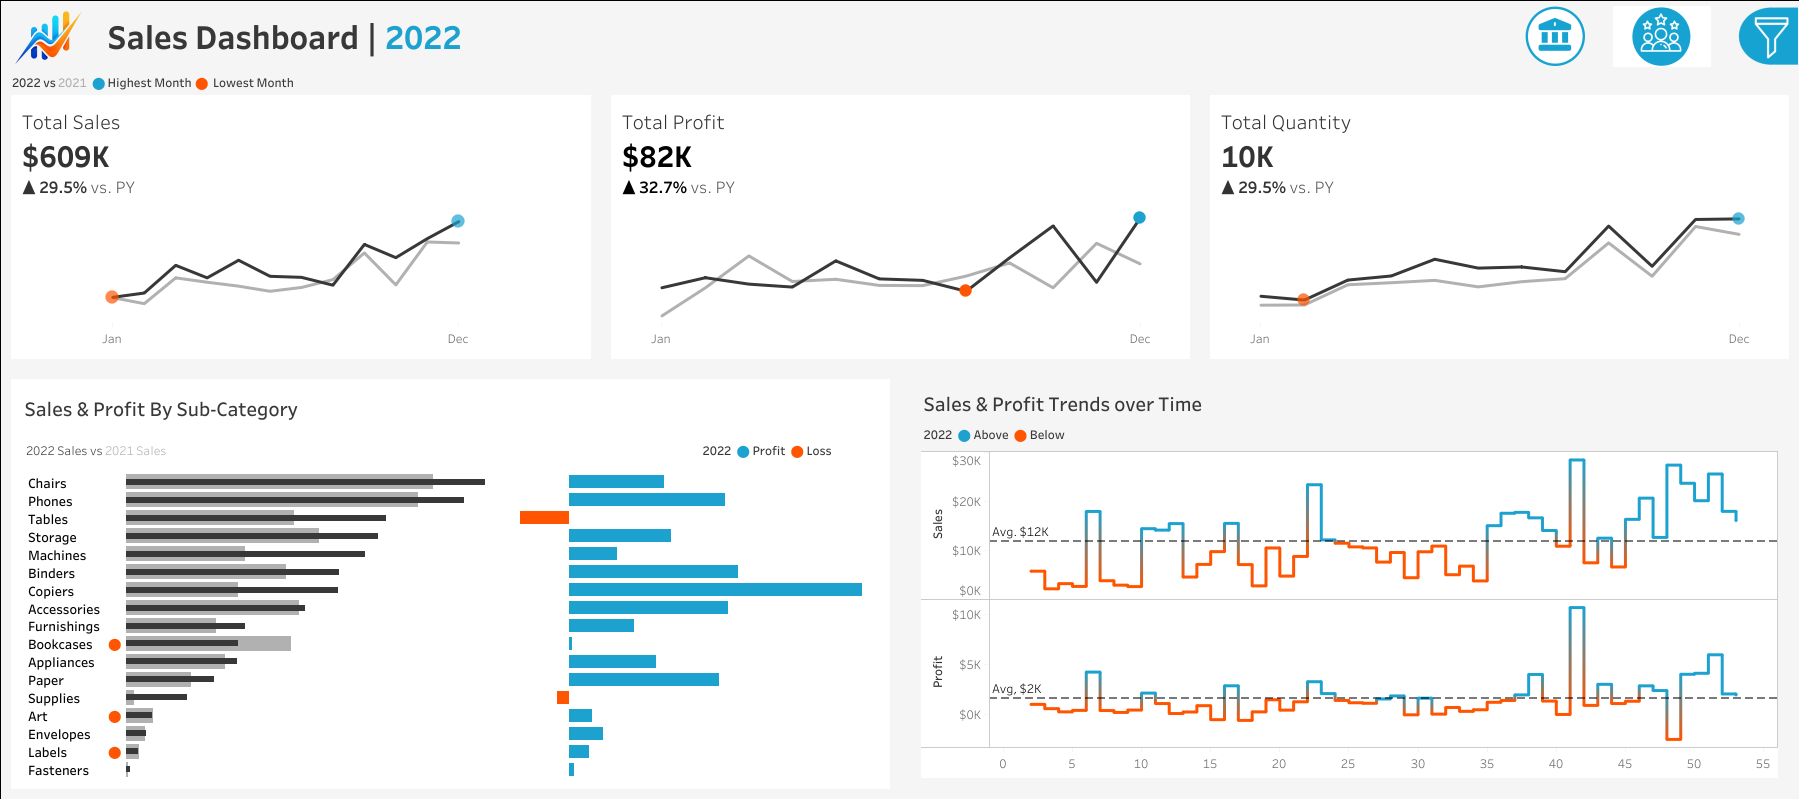

Layout of this report page (visuals, bound fields, positions):
{"tool":"tableau","page":{"name":"Sales Dashboard1","canvas":[1800,800],"ordinal":1},"visuals":[{"type":"image","param":"C:/Users/DELL G15/Desktop/Tableau/Project 1 - Sales/Icons/Logo_2.png","box":[1,1,100,69]},{"type":"text","box":[101,1,1363,69]},{"type":"dashboard-object","box":[1502,2,107,69]},{"type":"dashboard-object","box":[1609,2,106,69]},{"type":"blank","box":[1564,10,224,72]},{"type":"worksheet","title":"KPI Legend","mark":"Automatic","box":[1,70,1798,25]},{"type":"text","box":[1564,82,224,34]},{"type":"worksheet","title":"KPI Sales","mark":"Line","rows":["Calculation_1582170857725837316"],"cols":["Order Date"],"box":[1,95,600,274]},{"type":"worksheet","title":"KPI Profit","mark":"Automatic","rows":["Calculation_1582170857767542800"],"cols":["Order Date"],"box":[601,95,599,274]},{"type":"worksheet","title":"KPI Quantity","mark":"Automatic","rows":["Calculation_1582170857854054422"],"cols":["Order Date"],"box":[1200,95,599,274]},{"type":"parameter","param":"[Parameters].[Parameter 1]","box":[1564,116,224,108]},{"type":"text","box":[1564,224,224,29]},{"type":"filter","title":"KPI Profit","param":"[federated.0fk8p3709o20dp17xdo2p17hq9xo].[none:Category:nk]","box":[1564,253,224,52]},{"type":"filter","title":"KPI Profit","param":"[federated.0fk8p3709o20dp17xdo2p17hq9xo].[none:Sub-Category:nk]","box":[1564,305,224,52]},{"type":"blank","box":[1564,357,224,52]},{"type":"text","box":[18,386,865,45]},{"type":"text","box":[917,386,865,34]},{"type":"text","box":[1564,409,224,29]},{"type":"text","box":[917,420,865,25]},{"type":"worksheet","title":"Legend Sub-Category Chart","mark":"Text","box":[18,431,678,38]},{"type":"text","box":[696,431,187,38]},{"type":"filter","title":"KPI Profit","param":"[federated.0fk8p3709o20dp17xdo2p17hq9xo].[none:Region:nk]","box":[1564,438,224,52]},{"type":"worksheet","title":"Weekly Trend","mark":"Automatic","rows":["Calculation_1582170857719562240","Calculation_1582170857758224395"],"cols":["Order Date"],"box":[917,445,865,337]},{"type":"worksheet","title":"Subcategory Comparision","mark":"Bar","rows":["Sub-Category","Calculation_1582170857865056281"],"cols":["CY Sales (copy)_1582170857720573953","Calculation_1582170857719562240","Calculation_1582170857758224395"],"box":[18,469,865,312.9]},{"type":"filter","title":"KPI Profit","param":"[federated.0fk8p3709o20dp17xdo2p17hq9xo].[none:State:nk]","box":[1564,490,224,52]},{"type":"filter","title":"KPI Profit","param":"[federated.0fk8p3709o20dp17xdo2p17hq9xo].[none:City:nk]","box":[1564,542,224,52]}]}

Visuals, with their boxes in screenshot pixels (x1, y1, x2, y2), scaled from the page's 1800x800 canvas onto the 1799x799 screenshot:
image: left=1, top=1, right=101, bottom=70
text: left=101, top=1, right=1463, bottom=70
dashboard-object: left=1501, top=2, right=1608, bottom=71
dashboard-object: left=1608, top=2, right=1714, bottom=71
blank: left=1563, top=10, right=1787, bottom=82
"KPI Legend" worksheet: left=1, top=70, right=1798, bottom=95
text: left=1563, top=82, right=1787, bottom=116
"KPI Sales" worksheet (Line marks): left=1, top=95, right=601, bottom=369
"KPI Profit" worksheet: left=601, top=95, right=1199, bottom=369
"KPI Quantity" worksheet: left=1199, top=95, right=1798, bottom=369
parameter: left=1563, top=116, right=1787, bottom=224
text: left=1563, top=224, right=1787, bottom=253
"KPI Profit" filter: left=1563, top=253, right=1787, bottom=305
"KPI Profit" filter: left=1563, top=305, right=1787, bottom=357
blank: left=1563, top=357, right=1787, bottom=408
text: left=18, top=386, right=883, bottom=430
text: left=916, top=386, right=1781, bottom=419
text: left=1563, top=408, right=1787, bottom=437
text: left=916, top=419, right=1781, bottom=444
"Legend Sub-Category Chart" worksheet (Text marks): left=18, top=430, right=696, bottom=468
text: left=696, top=430, right=883, bottom=468
"KPI Profit" filter: left=1563, top=437, right=1787, bottom=489
"Weekly Trend" worksheet: left=916, top=444, right=1781, bottom=781
"Subcategory Comparision" worksheet (Bar marks): left=18, top=468, right=883, bottom=781
"KPI Profit" filter: left=1563, top=489, right=1787, bottom=541
"KPI Profit" filter: left=1563, top=541, right=1787, bottom=593
